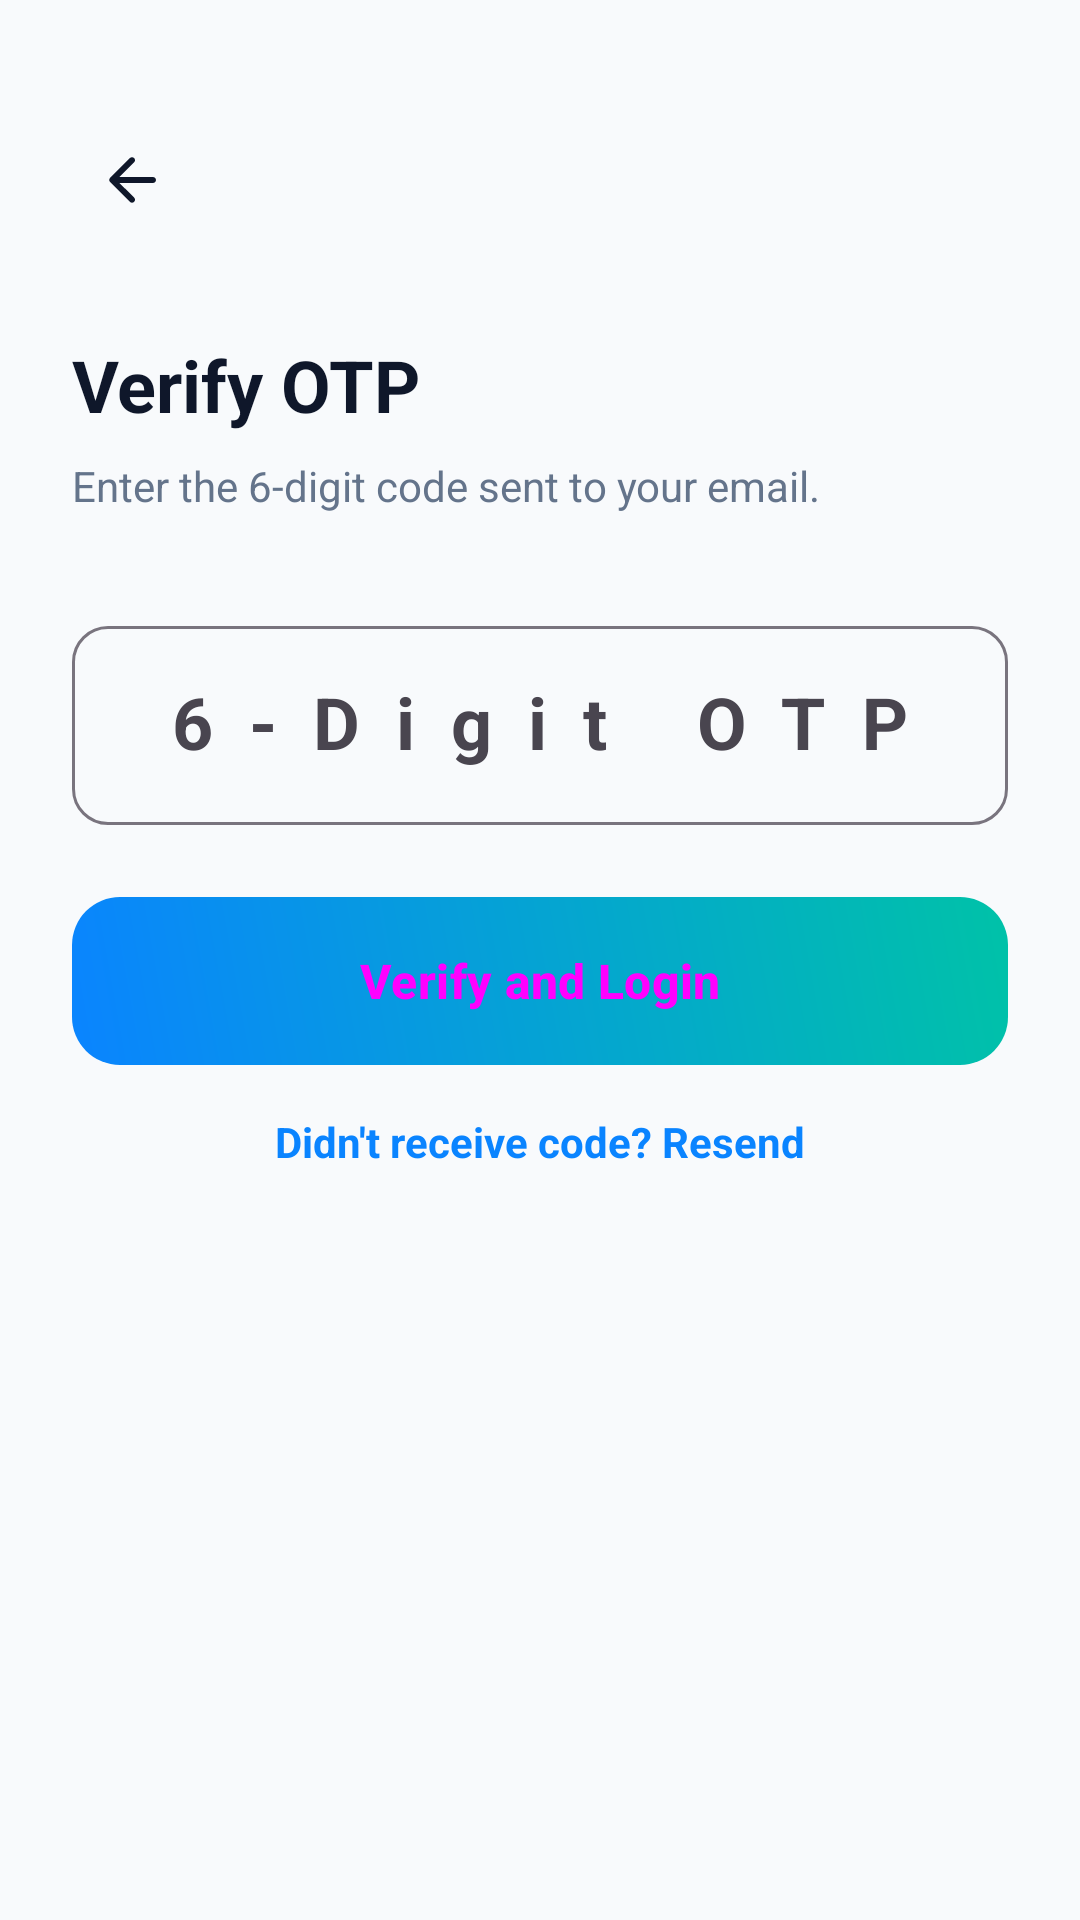

Screen size 1080w x 1920h. Icon name, then its box in pixels as rect(x1, y1, x2, y2):
back: rect(109, 157, 156, 203)
